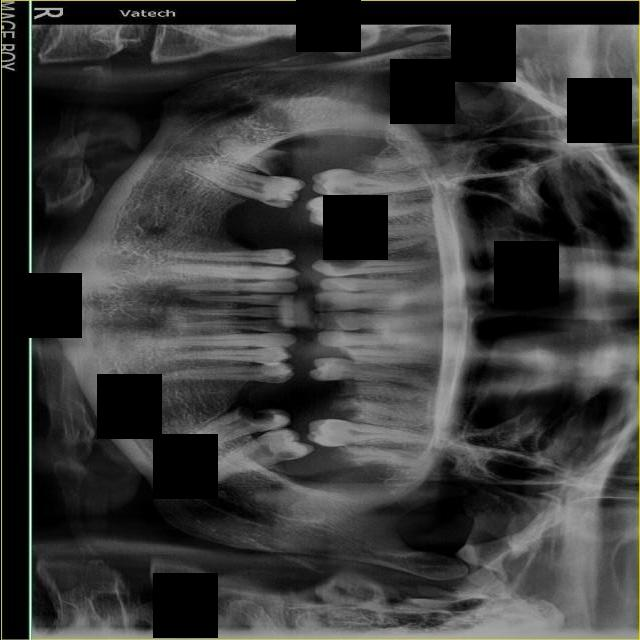72: (362, 237, 425, 258), (357, 153, 422, 173), (344, 397, 399, 417), (348, 410, 401, 430)
Sterngold Implant: (257, 143, 293, 179), (330, 444, 364, 470), (235, 407, 279, 427), (321, 258, 369, 271), (341, 241, 368, 262), (273, 447, 302, 464), (329, 399, 360, 412), (331, 223, 351, 242), (337, 379, 356, 396), (262, 197, 289, 208), (257, 374, 285, 384), (331, 186, 357, 196), (334, 197, 356, 201)
